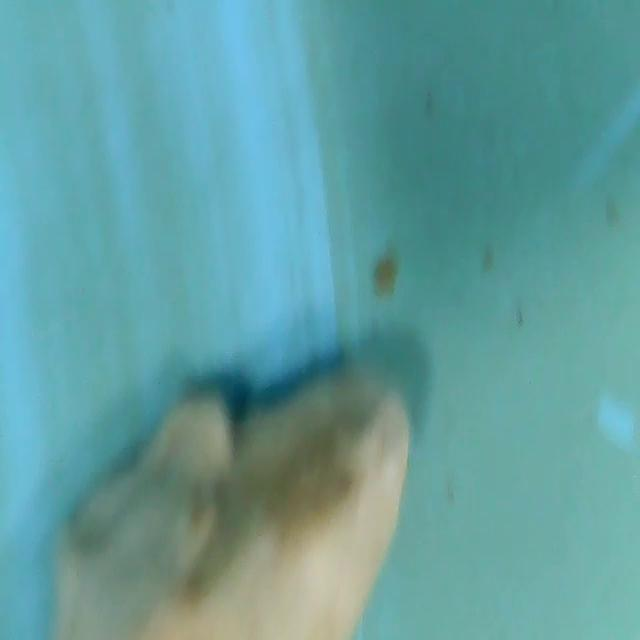rock: (53, 353, 416, 640)
